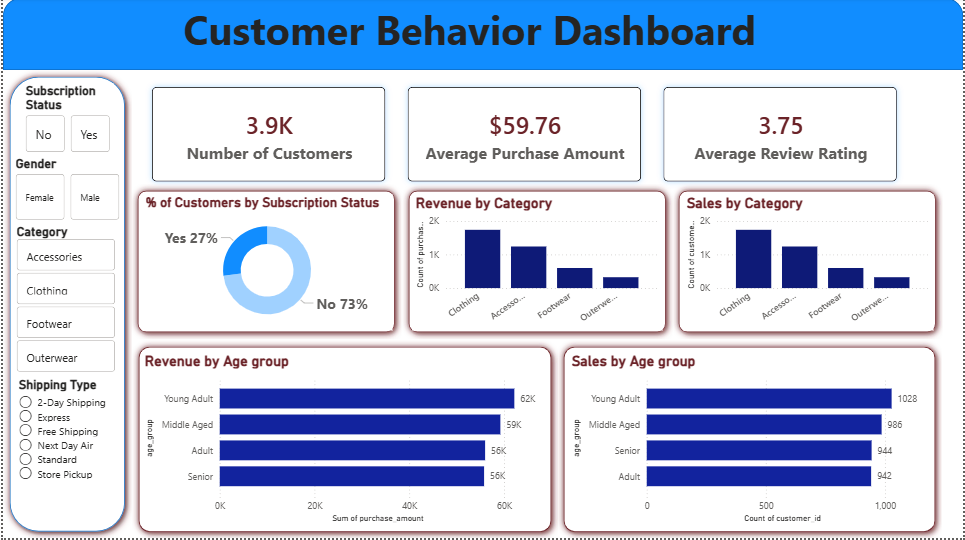

The page's visual inventory and layout, read from the dashboard file:
{"tool":"powerbi","page":{"name":"Page 1","canvas":[1280,720],"ordinal":0},"visuals":[{"type":"shape","box":[171.5,455.6,568.1,264.8],"z":0},{"type":"cardVisual","fields":{"Data":["public customer.Number of Customers","public customer.Average Purchase Amount","public customer.Average Review Rating"]},"box":[171,91.2,1049.1,182.4],"z":1000},{"type":"shape","box":[0,0,1280.3,96.1],"z":2000},{"type":"textbox","box":[0,0,1280.3,96.1],"z":3000},{"type":"shape","box":[892.3,248,360.6,206.7],"z":4000},{"type":"clusteredColumnChart","title":"Sales by Category","fields":{"Category":["public customer.category"],"Y":["CountNonNull(public customer.customer_id)"]},"box":[906.5,260.8,333.5,182.4],"z":5000},{"type":"shape","box":[0,96.1,171.5,624.4],"z":6000},{"type":"advancedSlicerVisual","title":"Subscription Status","fields":{"Values":["public customer.subscription_status"]},"box":[24.7,113.9,122.1,97.4],"z":7000},{"type":"shape","box":[171,248,360.6,206.7],"z":8000},{"type":"donutChart","title":"% of Customers by Subscription Status","fields":{"Category":["public customer.subscription_status"],"Y":["CountNonNull(public customer.customer_id)"]},"box":[185.3,260.8,333.5,182.4],"z":9000},{"type":"shape","box":[531.7,248,360.6,206.7],"z":10000},{"type":"clusteredColumnChart","title":"Revenue by Category","fields":{"Y":["CountNonNull(public customer.purchase_amount)"],"Category":["public customer.category"]},"box":[545.9,260.8,333.5,182.4],"z":11000},{"type":"advancedSlicerVisual","title":"Gender","fields":{"Values":["public customer.gender"]},"box":[12.3,211.3,148.2,90.6],"z":12000},{"type":"advancedSlicerVisual","title":"Category","fields":{"Values":["public customer.category"]},"box":[13.7,301.9,141.3,203.1],"z":13000},{"type":"listSlicer","title":"Shipping Type","fields":{"Values":["public customer.shipping_type"]},"box":[16.5,505,138.6,186.6],"z":14000},{"type":"clusteredBarChart","title":"Revenue by Age group","fields":{"Y":["Sum(public customer.purchase_amount)"],"Category":["public customer.age_group"]},"box":[183.9,472,542,231.9],"z":15000},{"type":"shape","box":[738.3,455.6,513.2,264.8],"z":16000},{"type":"clusteredBarChart","title":"Sales by Age group","fields":{"Y":["CountNonNull(public customer.customer_id)"],"Category":["public customer.age_group"]},"box":[753.3,472,487.1,231.9],"z":16001}]}

Visuals, with their boxes in screenshot pixels (x1, y1, x2, y2), scaled from the page's 1280x720 canvas onto the 965x540 screenshot:
shape: [left=129, top=342, right=558, bottom=539]
cardVisual - public customer.Number of Customers x public customer.Average Purchase Amount: [left=129, top=68, right=920, bottom=205]
shape: [left=0, top=0, right=964, bottom=72]
textbox: [left=0, top=0, right=964, bottom=72]
shape: [left=673, top=186, right=945, bottom=341]
"Sales by Category" clusteredColumnChart: [left=683, top=196, right=935, bottom=332]
shape: [left=0, top=72, right=129, bottom=539]
"Subscription Status" advancedSlicerVisual: [left=19, top=85, right=111, bottom=158]
shape: [left=129, top=186, right=401, bottom=341]
"% of Customers by Subscription Status" donutChart: [left=140, top=196, right=391, bottom=332]
shape: [left=401, top=186, right=673, bottom=341]
"Revenue by Category" clusteredColumnChart: [left=412, top=196, right=663, bottom=332]
"Gender" advancedSlicerVisual: [left=9, top=158, right=121, bottom=226]
"Category" advancedSlicerVisual: [left=10, top=226, right=117, bottom=379]
"Shipping Type" listSlicer: [left=12, top=379, right=117, bottom=519]
"Revenue by Age group" clusteredBarChart: [left=139, top=354, right=547, bottom=528]
shape: [left=557, top=342, right=944, bottom=539]
"Sales by Age group" clusteredBarChart: [left=568, top=354, right=935, bottom=528]
